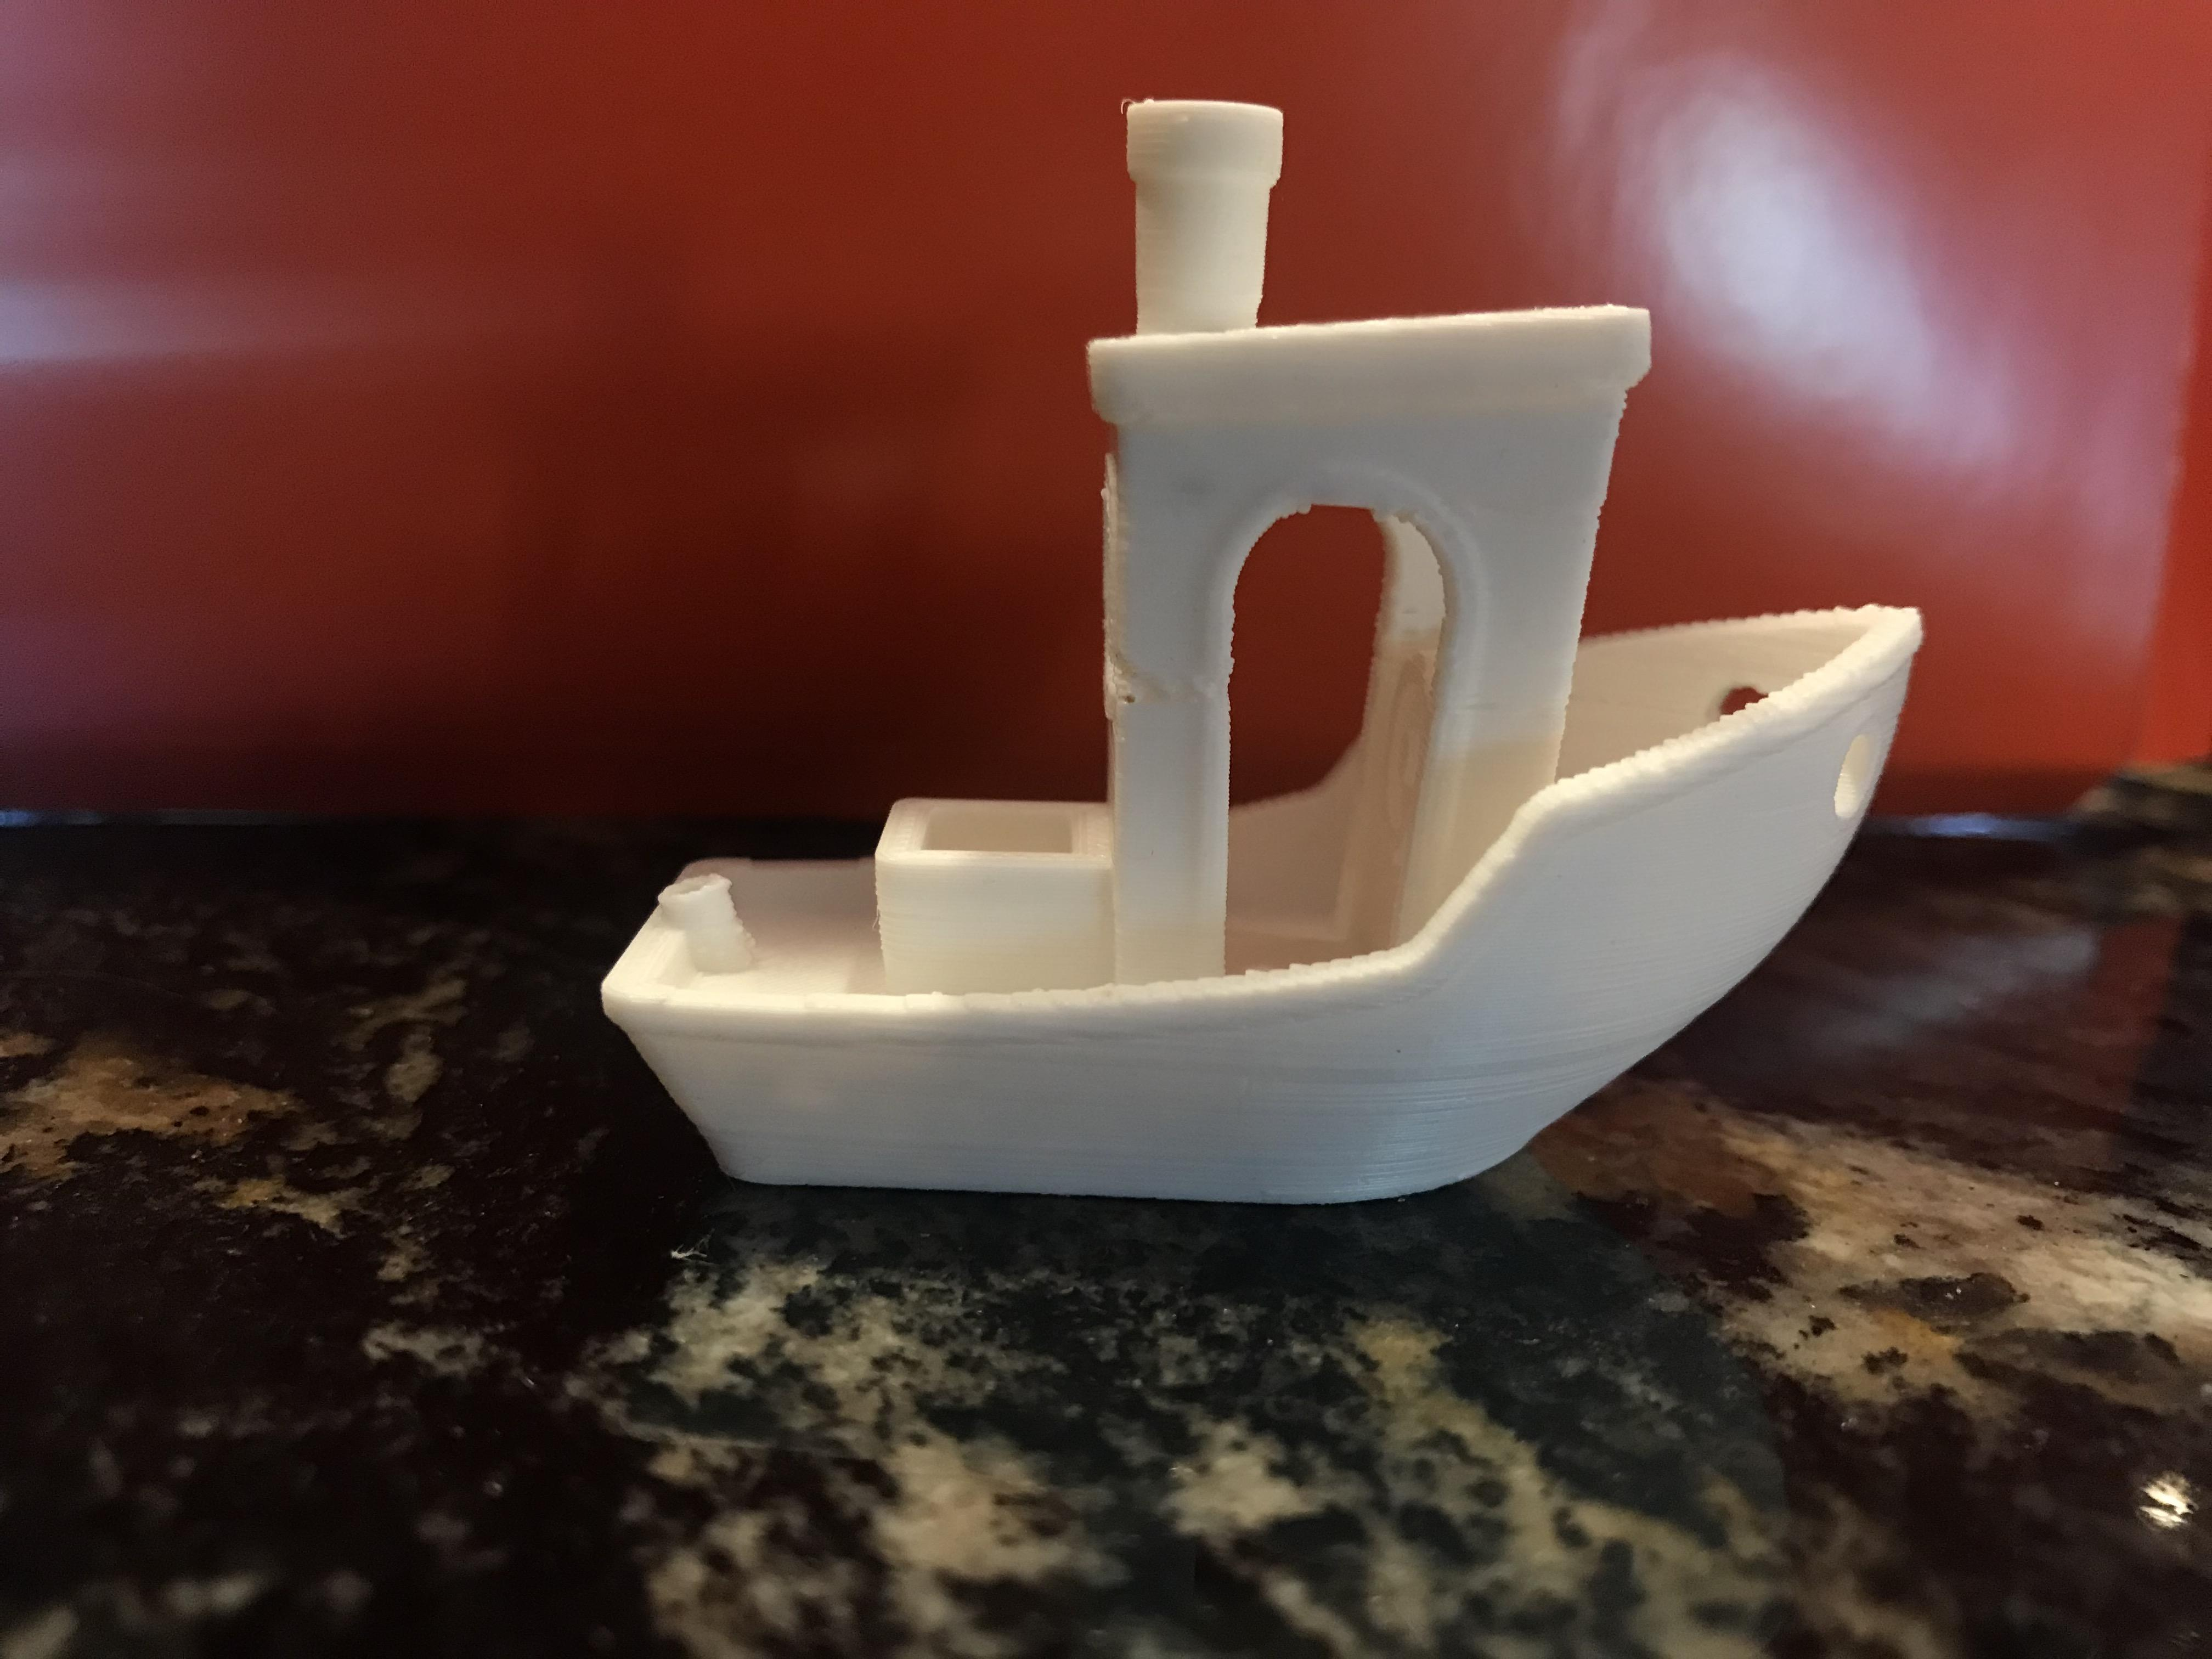Good: (601, 42, 1987, 1321)
